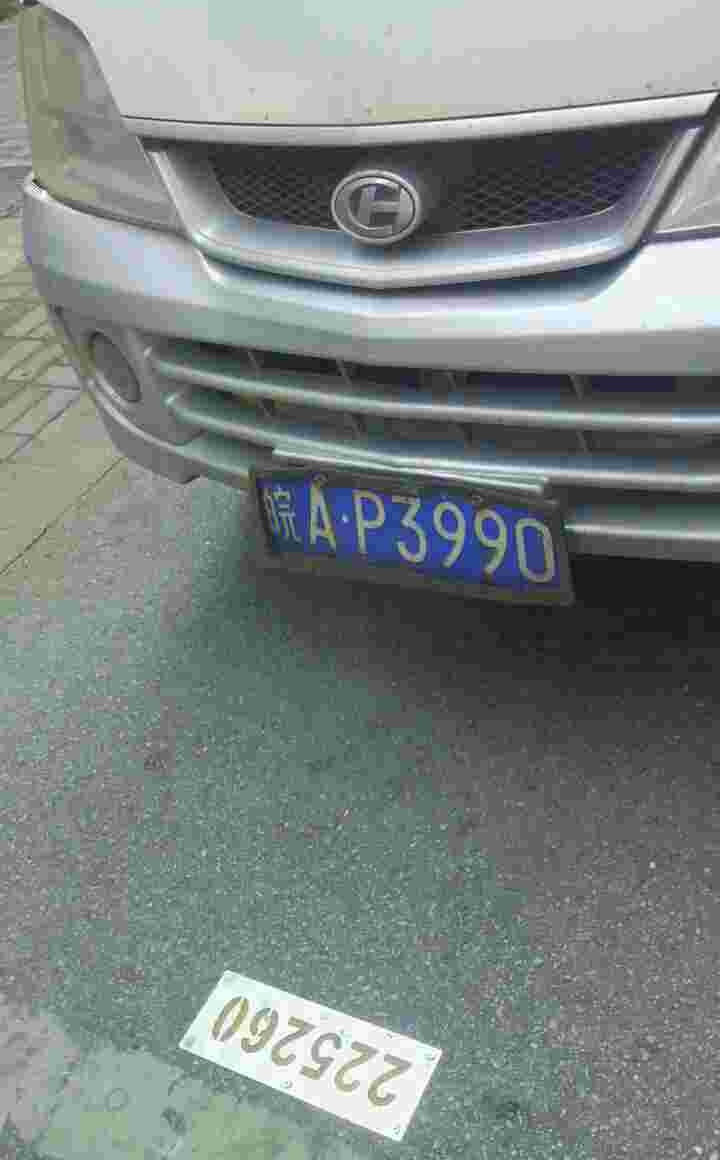license_plate: (245, 482, 569, 579)
